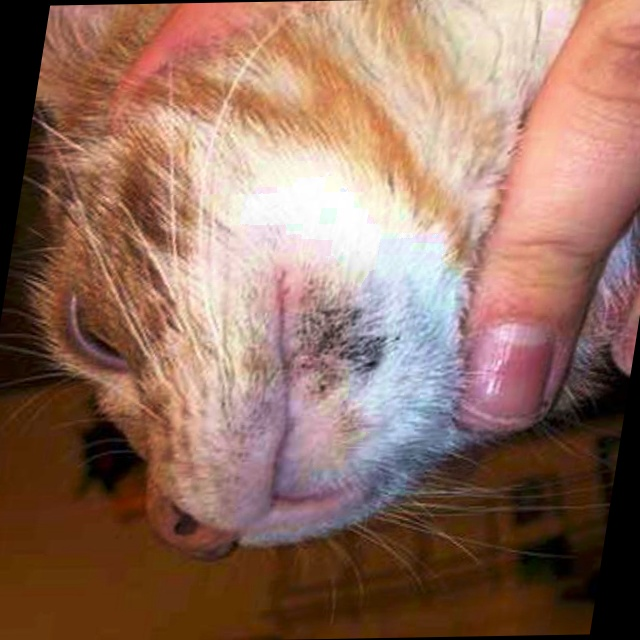acne: (286, 299, 398, 395)
